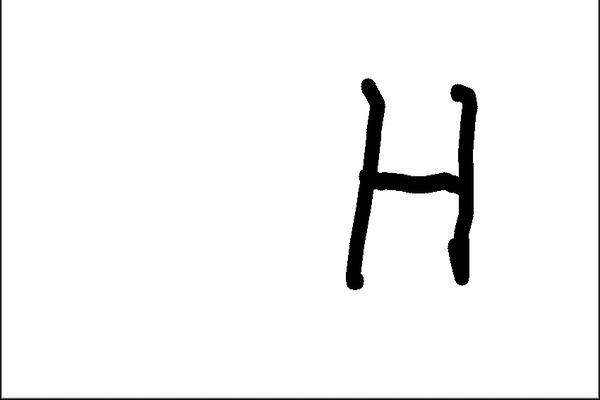H: (340, 69, 481, 297)
